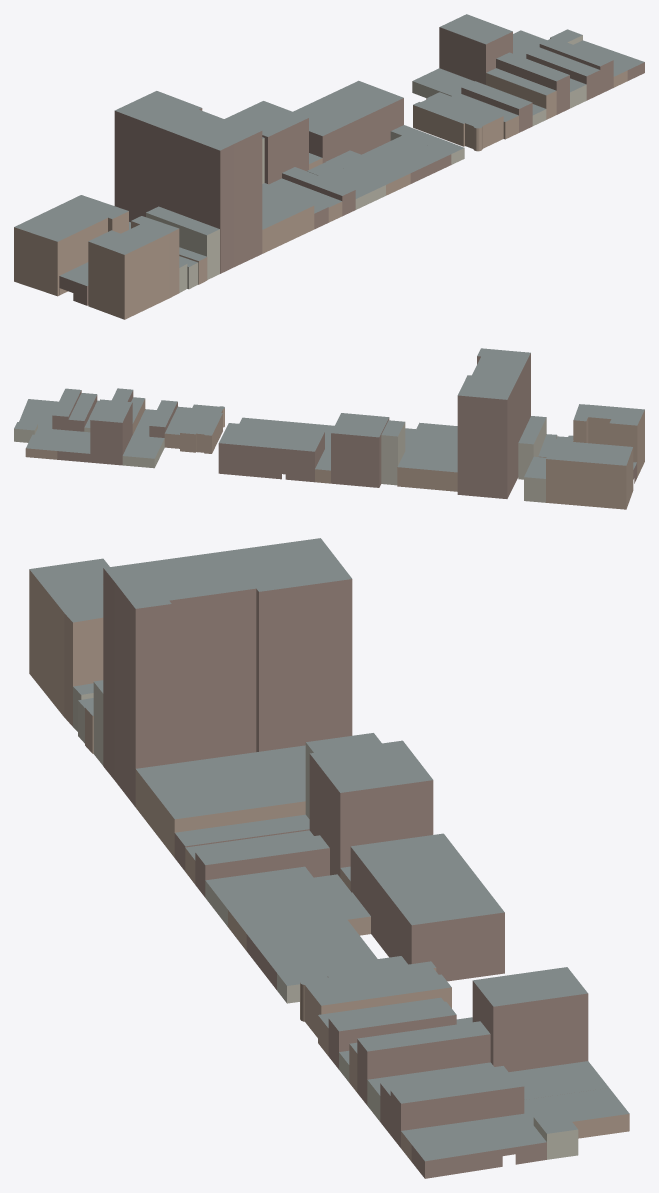
3 views of the same model, one above another, from view 1: azimuth 30°, elevation 25°; view 2: azimuth 150°, elevation 25°; view 3: azimuth 270°, elevation 25° (orthographic). The views are drawn at different scales.
Visible parts, largest first — view 1: F5; view 2: F5; view 3: F5.
Part boxes in pixels (x1,y1,x2,y2): F5: (14,14,644,319); F5: (14,348,644,509); F5: (29,538,629,1178).
Bounding box in the file's own units: 297 × 50.9 × 139.
